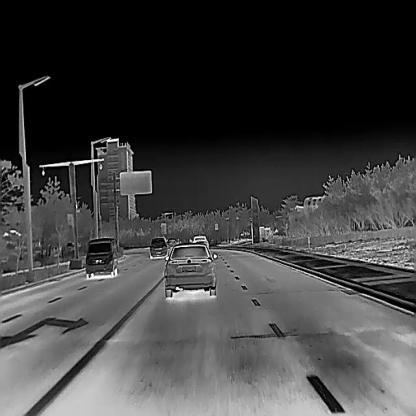car: (163, 242, 217, 297), (85, 236, 119, 279), (148, 236, 169, 259), (191, 234, 209, 251), (257, 224, 272, 240), (164, 237, 179, 249)
